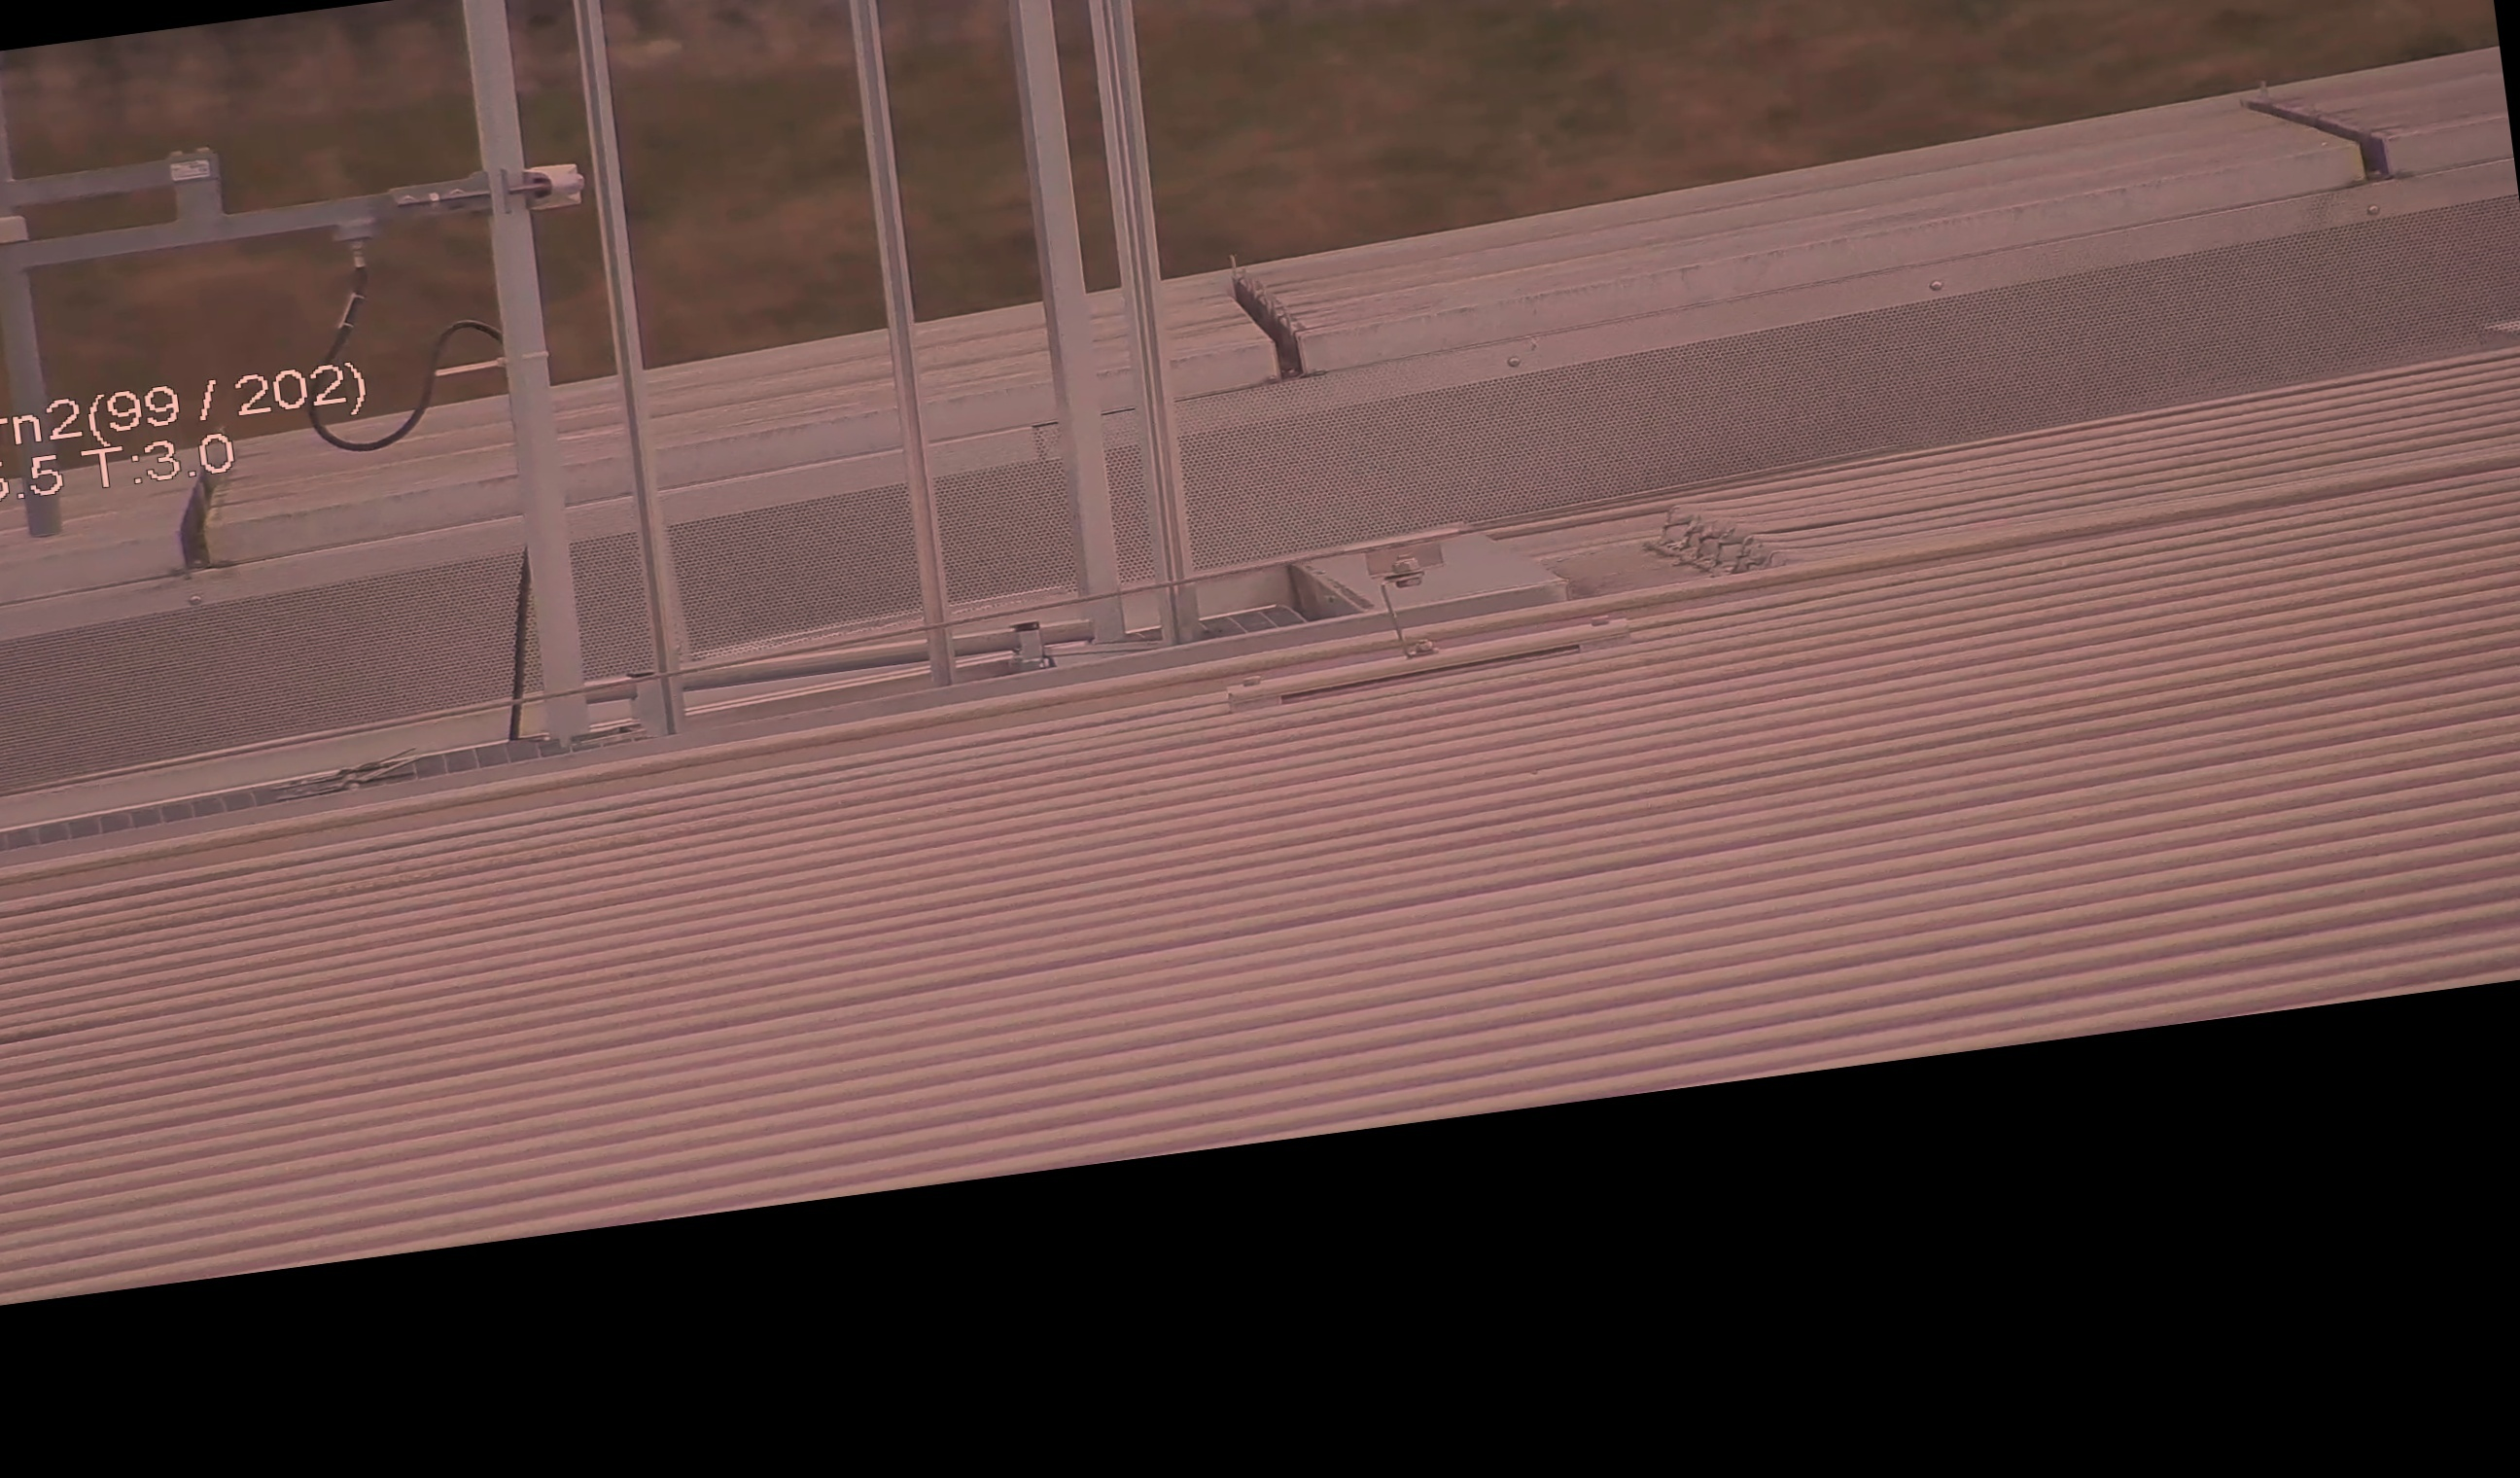Other: (1203, 238, 1342, 391)
